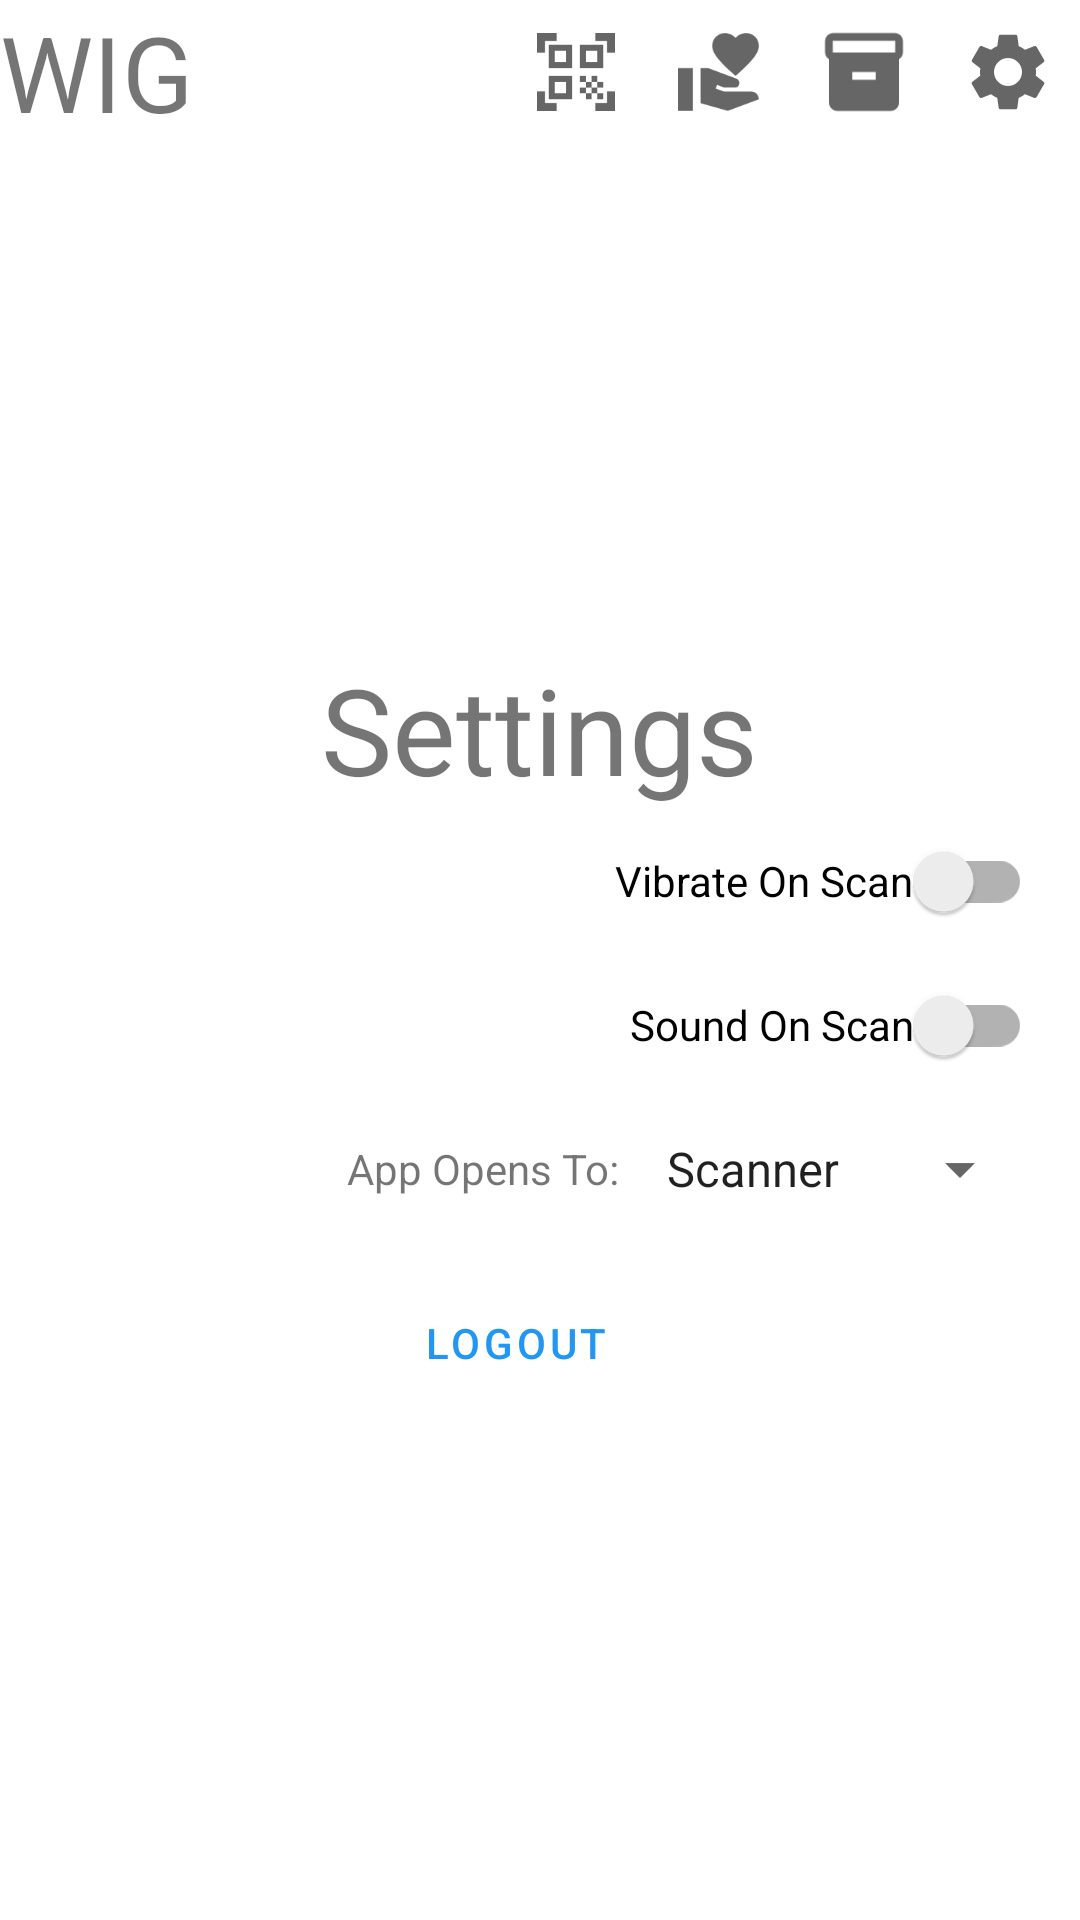

Named icons in this screenshot (1080px×1920px) and their centers, (x,y):
Manage Inventory: (864,72)
Scanner: (576,72)
Settings: (1008,72)
